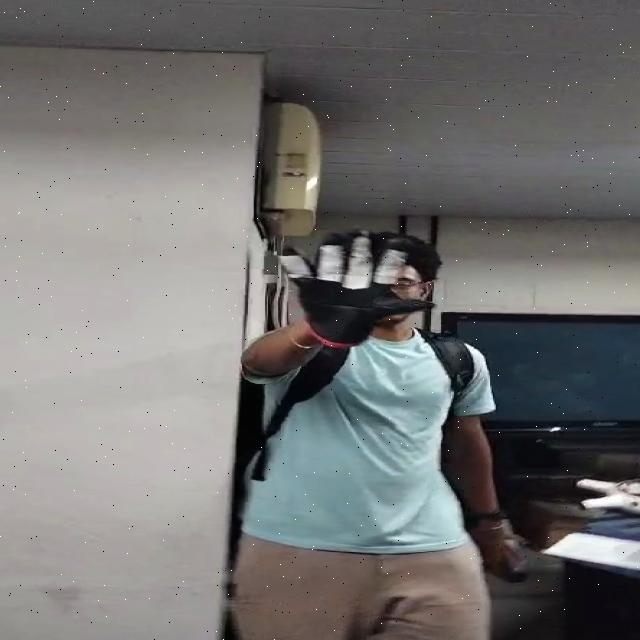Gloves: (268, 234, 427, 346)
